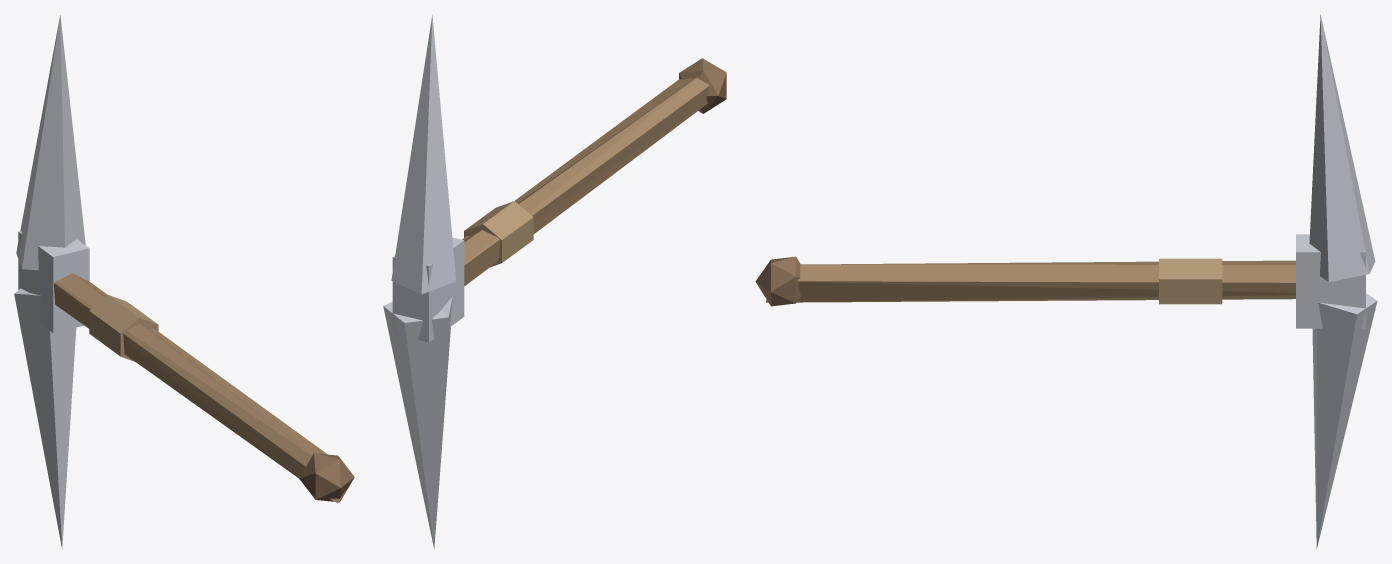
File: Pickaxe.fbx
3 renders of one model, left to right at view 1: azimuth 30°, elevation 25°; view 2: azimuth 150°, elevation 25°; view 3: azimuth 270°, elevation 25°, orthographic.
Parts seen in each view (by area): view 1: fam_iron, fam_wood, fam_leather, fam_wood_dark; view 2: fam_iron, fam_wood, fam_leather, fam_wood_dark; view 3: fam_iron, fam_wood, fam_leather, fam_wood_dark.
Part boxes in pixels (bbox=[...]): fam_iron: bbox=[14, 15, 89, 549]; fam_wood: bbox=[54, 273, 346, 503]; fam_leather: bbox=[89, 295, 158, 361]; fam_wood_dark: bbox=[299, 453, 354, 502]; fam_iron: bbox=[383, 15, 464, 548]; fam_wood: bbox=[462, 77, 709, 286]; fam_leather: bbox=[464, 201, 533, 267]; fam_wood_dark: bbox=[679, 58, 726, 113]; fam_iron: bbox=[1296, 14, 1377, 549]; fam_wood: bbox=[766, 260, 1295, 302]; fam_leather: bbox=[1159, 258, 1222, 304]; fam_wood_dark: bbox=[755, 256, 800, 306].
Size of the model in its own units: 0.3572 by 2.95 by 3.1.
